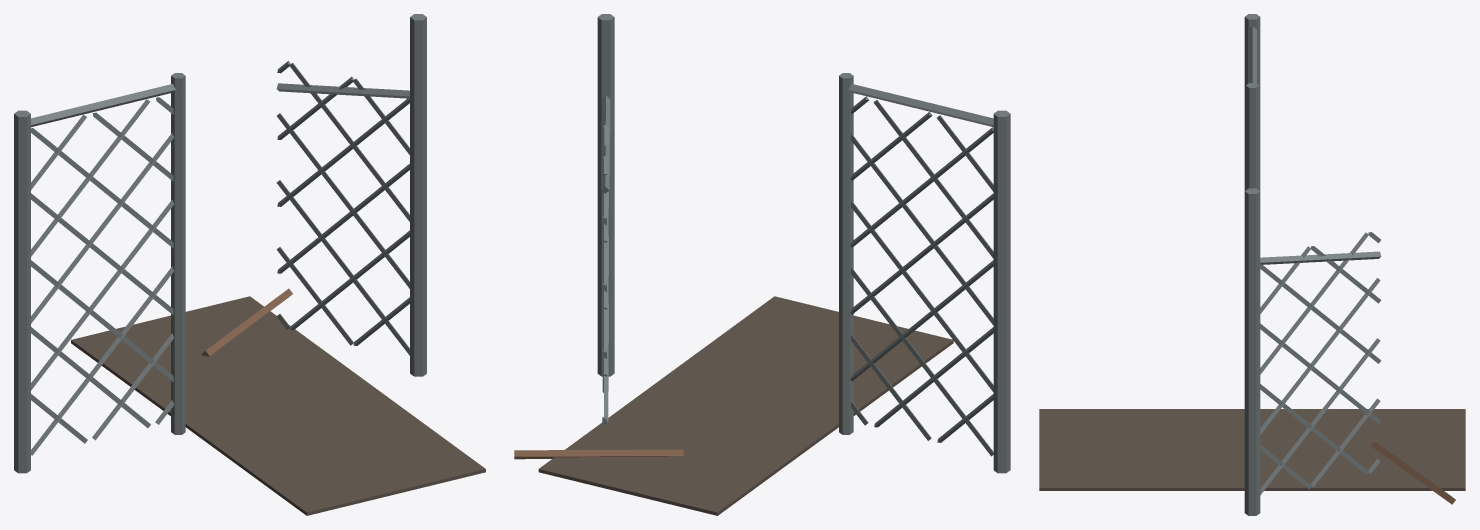
File: gap_wire.glb
3 renders of one model, left to right at view 1: azimuth 30°, elevation 25°; view 2: azimuth 150°, elevation 25°; view 3: azimuth 270°, elevation 25°, orthographic. The views are drawn at different scales.
Visible parts, largest first — view 1: gap_wire; view 2: gap_wire; view 3: gap_wire.
Part boxes in pixels (bbox=[...]): gap_wire: bbox=[14, 14, 485, 515]; gap_wire: bbox=[514, 14, 1010, 515]; gap_wire: bbox=[1039, 14, 1465, 515].
Size of the model in its own units: 1.92 by 1.6 by 1.92.
